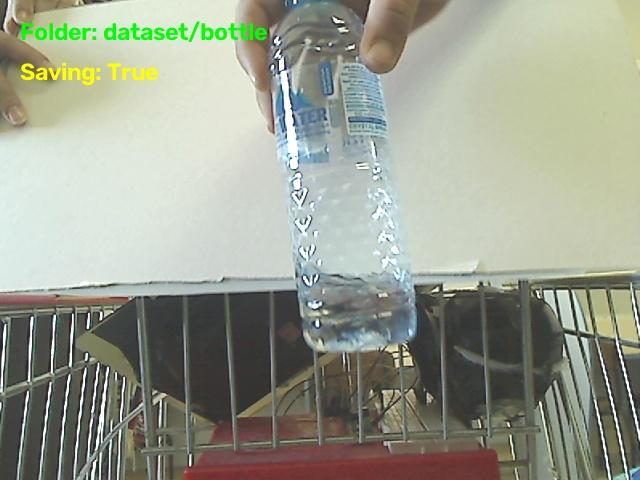Bottle: (272, 0, 416, 351)
